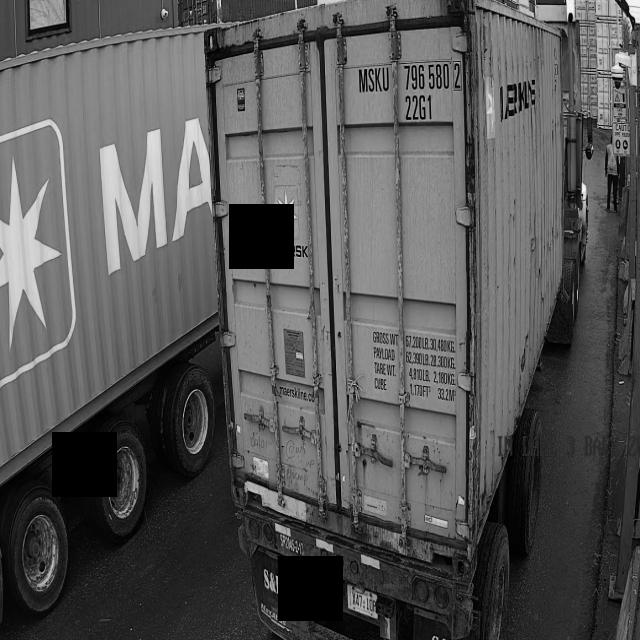container_company_logo: (270, 185, 308, 257)
container_number: (349, 48, 489, 132)
driver: (605, 133, 618, 211)
other_container_info: (371, 320, 460, 406)
truck_with_container: (205, 0, 593, 640), (0, 28, 218, 621)
